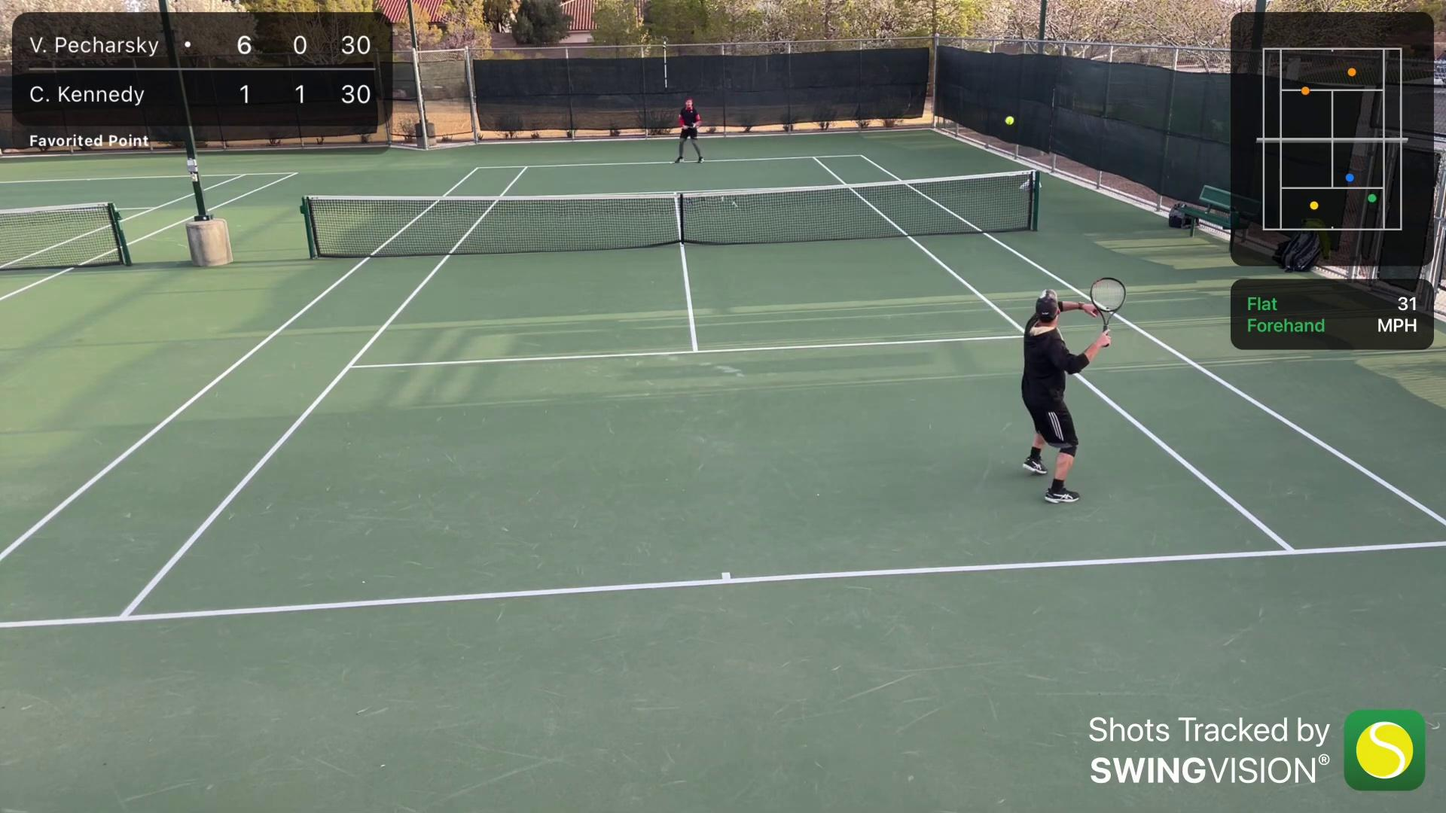ball: (1004, 115, 1014, 124)
